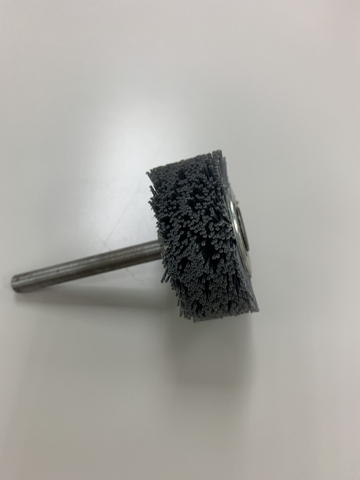Wheel Brush: (9, 149, 266, 324), (51, 151, 264, 331)
